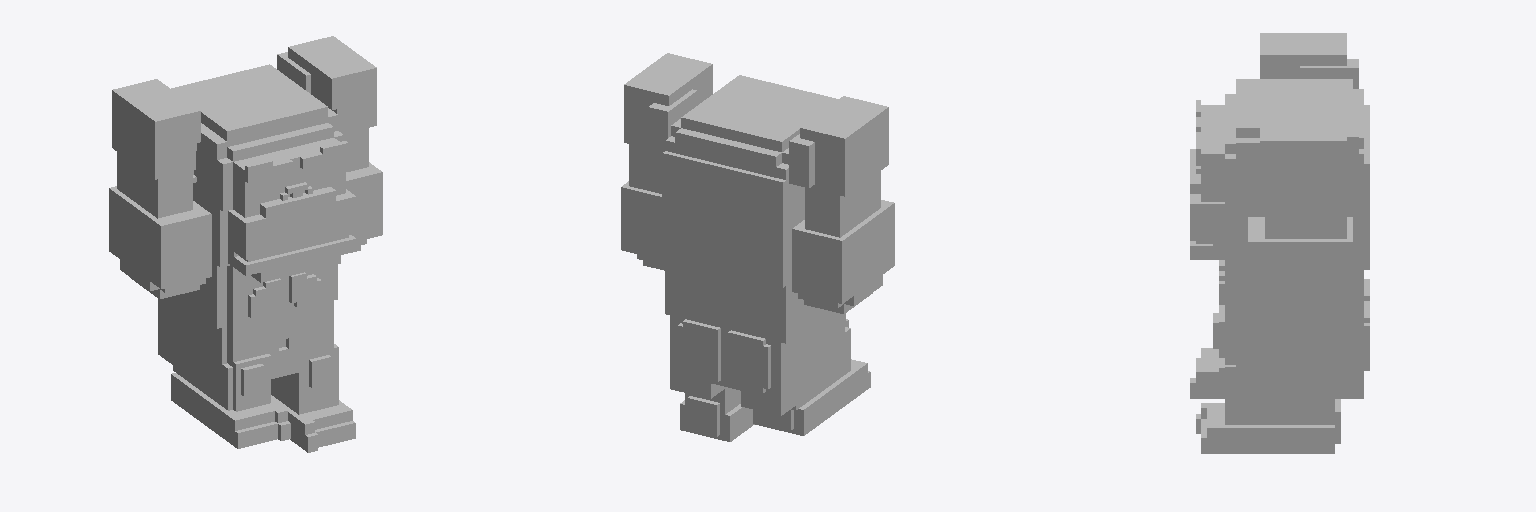
File: Monkey-holdL.obj
3 renders of one model, left to right at view 1: azimuth 30°, elevation 25°; view 2: azimuth 150°, elevation 25°; view 3: azimuth 270°, elevation 25°, orthographic.
Size of the model in its own units: 44 by 64 by 31.